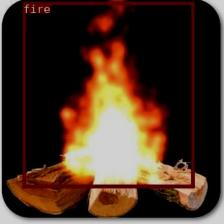fire: (22, 1, 194, 188)
